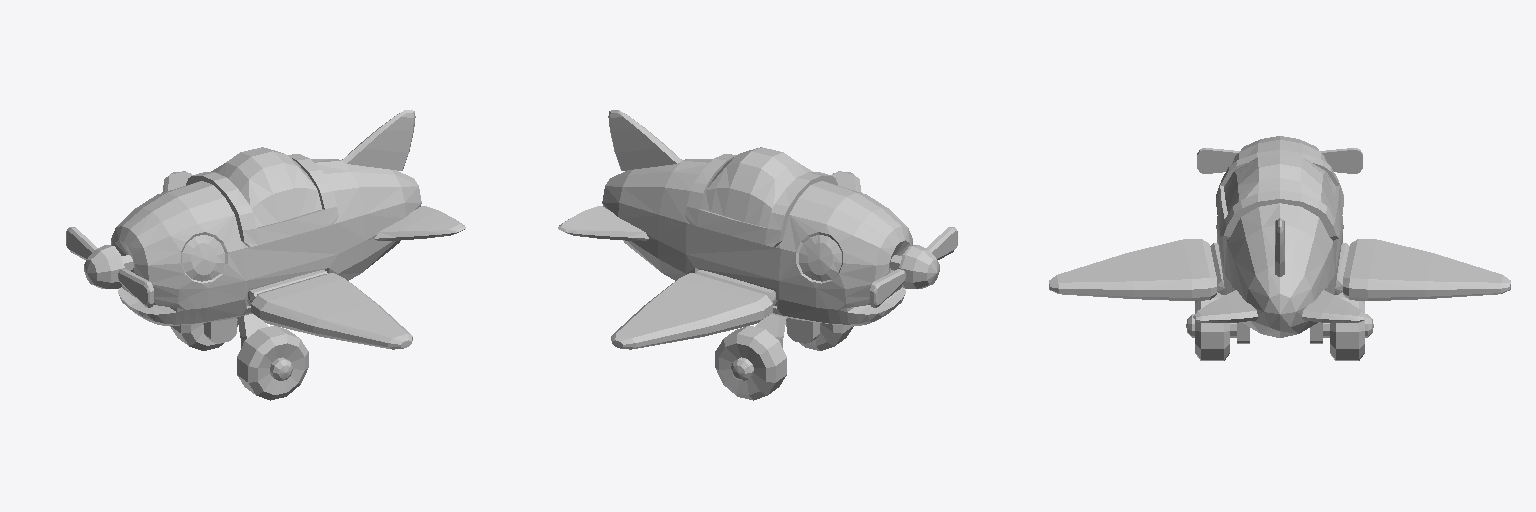
File: plane_original.obj
3 renders of one model, left to right at view 1: azimuth 30°, elevation 25°; view 2: azimuth 150°, elevation 25°; view 3: azimuth 270°, elevation 25°, orthographic.
Parts seen in each view (by area): view 1: Object_planes.jpg; view 2: Object_planes.jpg; view 3: Object_planes.jpg.
Part boxes in pixels (x1,y1,x2,y2): Object_planes.jpg: (66, 110, 465, 400); Object_planes.jpg: (558, 110, 957, 400); Object_planes.jpg: (1049, 136, 1510, 360).
Size of the model in its own units: 2.11 by 1.31 by 2.5.